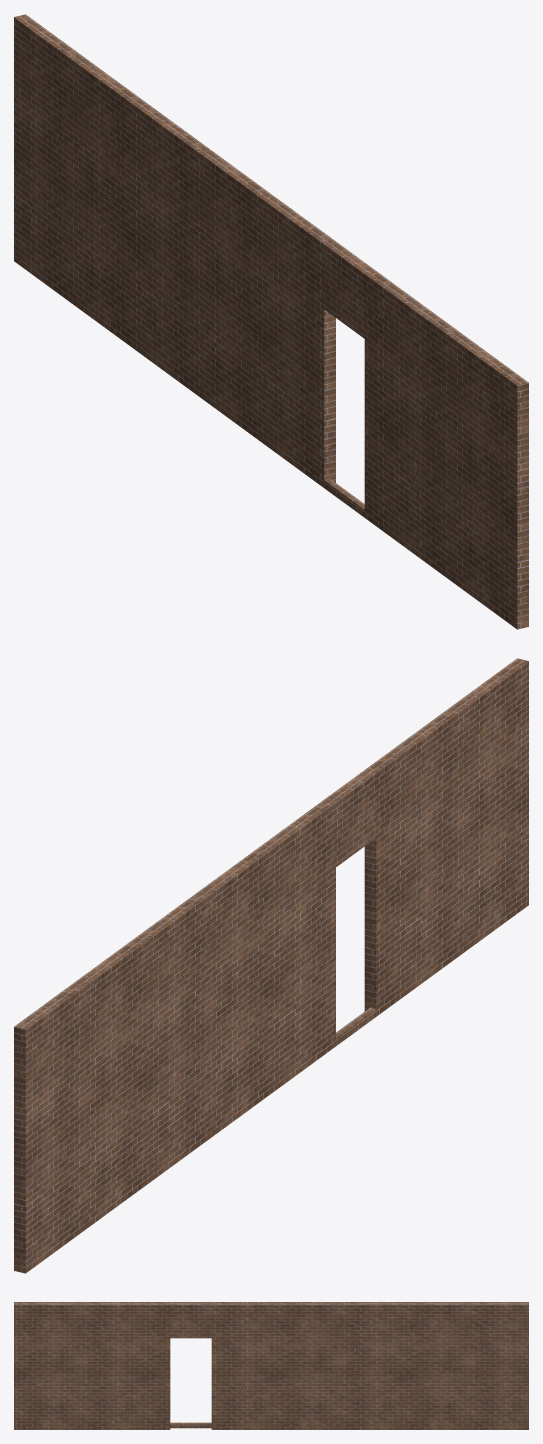
File: Joglo_part_19.fbx
The picture shows the model from 3 angles, top to bottom: view 1: azimuth 30°, elevation 25°; view 2: azimuth 150°, elevation 25°; view 3: azimuth 270°, elevation 25°; orthographic projection. The views are drawn at different scales.
Visible parts, largest first — view 1: Mesh114_Brick___Brown_0.001; view 2: Mesh114_Brick___Brown_0.001; view 3: Mesh114_Brick___Brown_0.001.
Part boxes in pixels (bbox=[...]): Mesh114_Brick___Brown_0.001: bbox=[14, 14, 528, 629]; Mesh114_Brick___Brown_0.001: bbox=[14, 658, 528, 1273]; Mesh114_Brick___Brown_0.001: bbox=[14, 1302, 528, 1429].
Size of the model in its own units: 5.91 by 118 by 442.
